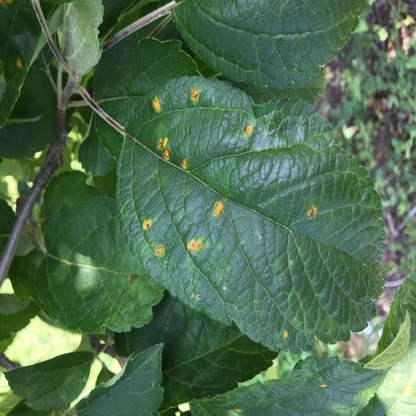frogeye: (197, 295, 200, 299), (223, 287, 225, 290), (260, 236, 261, 239)
rust: (187, 239, 203, 251), (213, 199, 223, 215), (190, 88, 199, 105), (403, 383, 413, 397), (307, 205, 317, 218), (153, 96, 161, 112), (154, 245, 165, 256), (158, 138, 168, 149), (14, 56, 22, 69), (142, 219, 151, 229), (244, 125, 252, 136), (181, 158, 188, 168), (283, 327, 289, 337), (235, 407, 243, 413), (164, 150, 169, 159), (319, 382, 326, 387), (128, 276, 130, 280)
scab: (130, 274, 138, 284)
